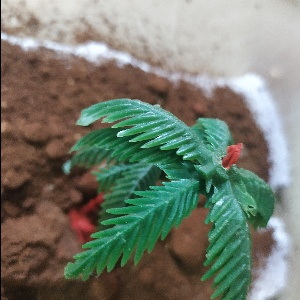plant: (67, 99, 275, 300)
